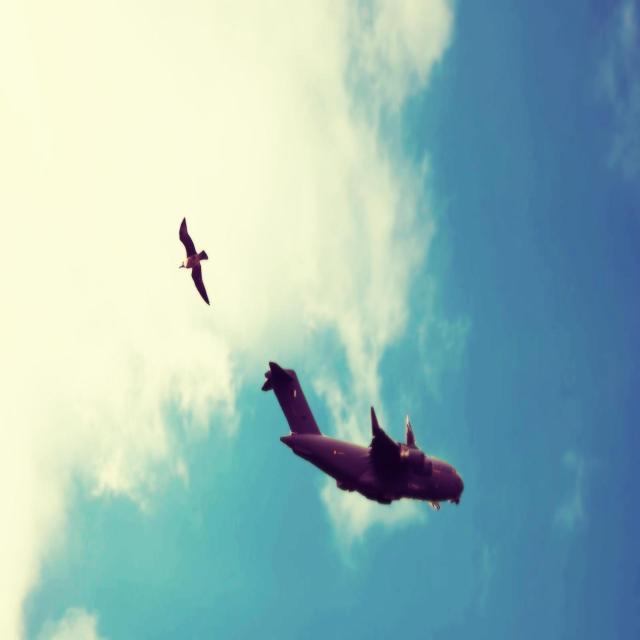airplane: (261, 359, 464, 511)
